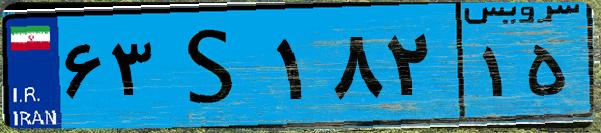1: (270, 28, 330, 110), (475, 38, 525, 113)
2: (385, 28, 445, 110)
3: (110, 28, 158, 98)
5: (525, 38, 570, 115)
6: (57, 26, 110, 100)
8: (330, 28, 385, 110)
S: (158, 12, 270, 120)
